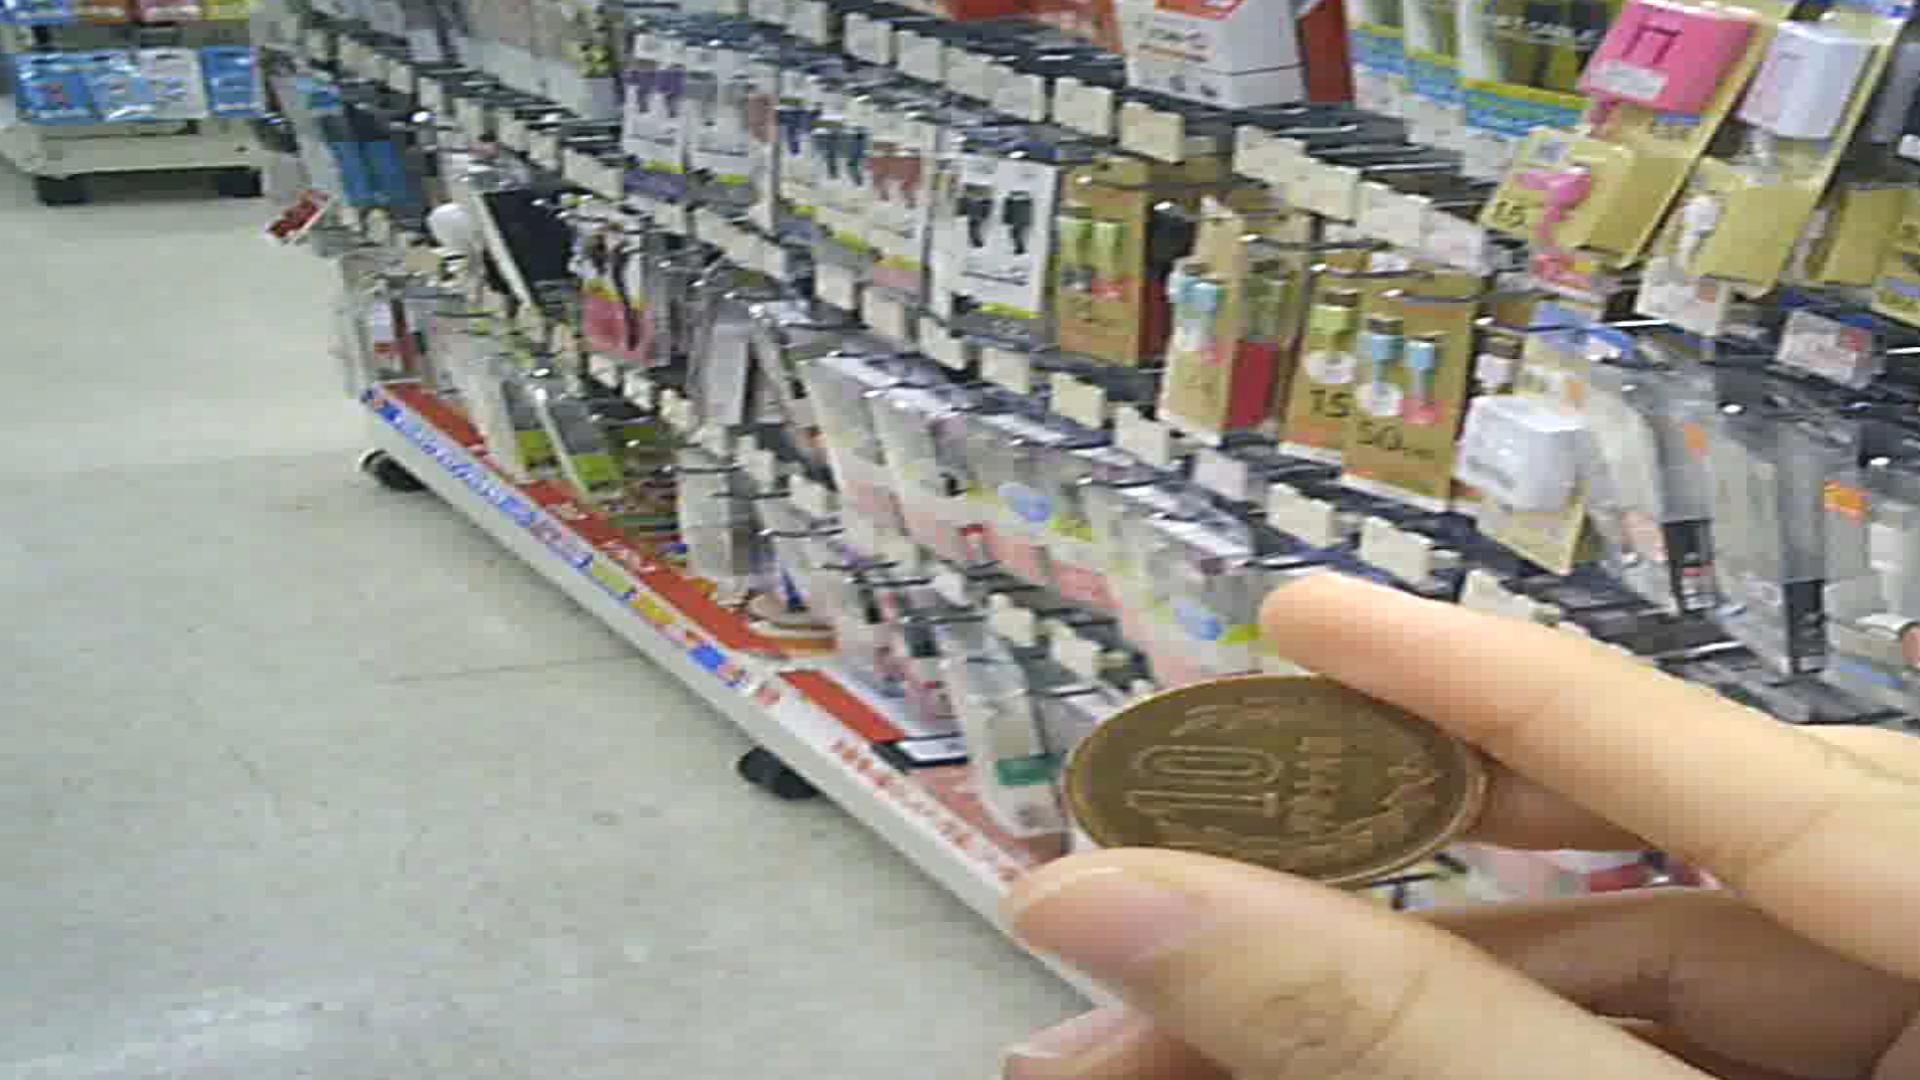10 Yen: (1050, 665, 1507, 894)
